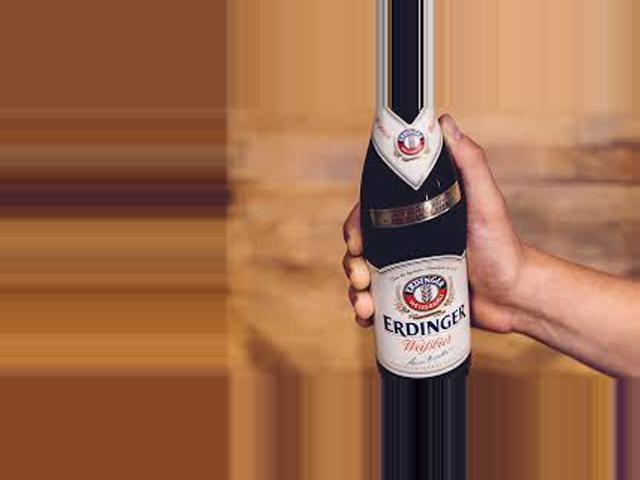beer: (360, 109, 473, 380)
